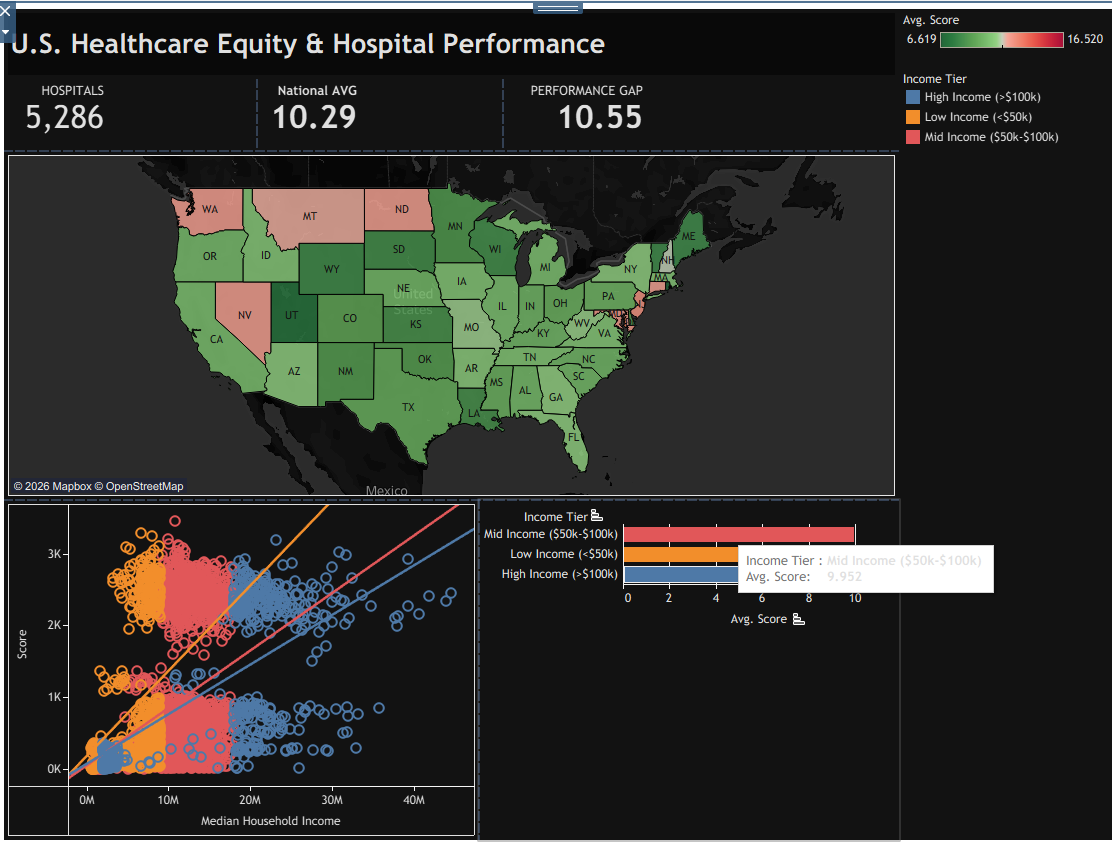

The page's visual inventory and layout, read from the dashboard file:
{"tool":"tableau","page":{"name":"Dashboard 1","canvas":[1000,1000],"units":"permille","ordinal":0},"visuals":[{"type":"text","box":[8.5,9.5,756.1,82.6]},{"type":"legend","title":"Map","param":"[federated.1md3m7p05offnb166bxzf0fcu5jn].[avg:Score:qk]","box":[764.6,9.5,226.8,69.7]},{"type":"legend","title":"bar chart","param":"[federated.1md3m7p05offnb166bxzf0fcu5jn].[none:Calculation_893120138110029824:nk","box":[764.6,79.1,226.8,98]},{"type":"worksheet","title":"total hopital count KPI","mark":"Automatic","box":[8.5,92,213.7,85]},{"type":"worksheet","title":"KPI-national avg","mark":"Automatic","box":[222.2,92,207.7,85]},{"type":"worksheet","title":"KPI-Equity Gap","mark":"Automatic","box":[429.9,92,334.8,85]},{"type":"worksheet","title":"Map","mark":"Multipolygon","box":[8.5,177,756.1,412.1]},{"type":"worksheet","title":"scatterd plot ","mark":"Automatic","rows":["Score"],"cols":["Median_Household_Income"],"box":[8.5,589.1,427,401.4]},{"type":"worksheet","title":"bar chart","mark":"Automatic","rows":["Calculation_893120138110029824"],"cols":["Score"],"box":[435.5,589.1,329.1,401.4]}]}

Visuals, with their boxes on the dashboard's canvas, which has no fixed pixel size, in thousandths of its width and height (x1, y1, x2, y2). These are canvas units, not pixel positions in the 1112x842 screenshot, which may show the page scaled, cropped or inside an application window:
text: pyautogui.locateOnScreen(8, 10, 765, 92)
"Map" legend: pyautogui.locateOnScreen(765, 10, 991, 79)
"bar chart" legend: pyautogui.locateOnScreen(765, 79, 991, 177)
"total hopital count KPI" worksheet: pyautogui.locateOnScreen(8, 92, 222, 177)
"KPI-national avg" worksheet: pyautogui.locateOnScreen(222, 92, 430, 177)
"KPI-Equity Gap" worksheet: pyautogui.locateOnScreen(430, 92, 765, 177)
"Map" worksheet (Multipolygon marks): pyautogui.locateOnScreen(8, 177, 765, 589)
"scatterd plot " worksheet: pyautogui.locateOnScreen(8, 589, 436, 990)
"bar chart" worksheet: pyautogui.locateOnScreen(436, 589, 765, 990)
